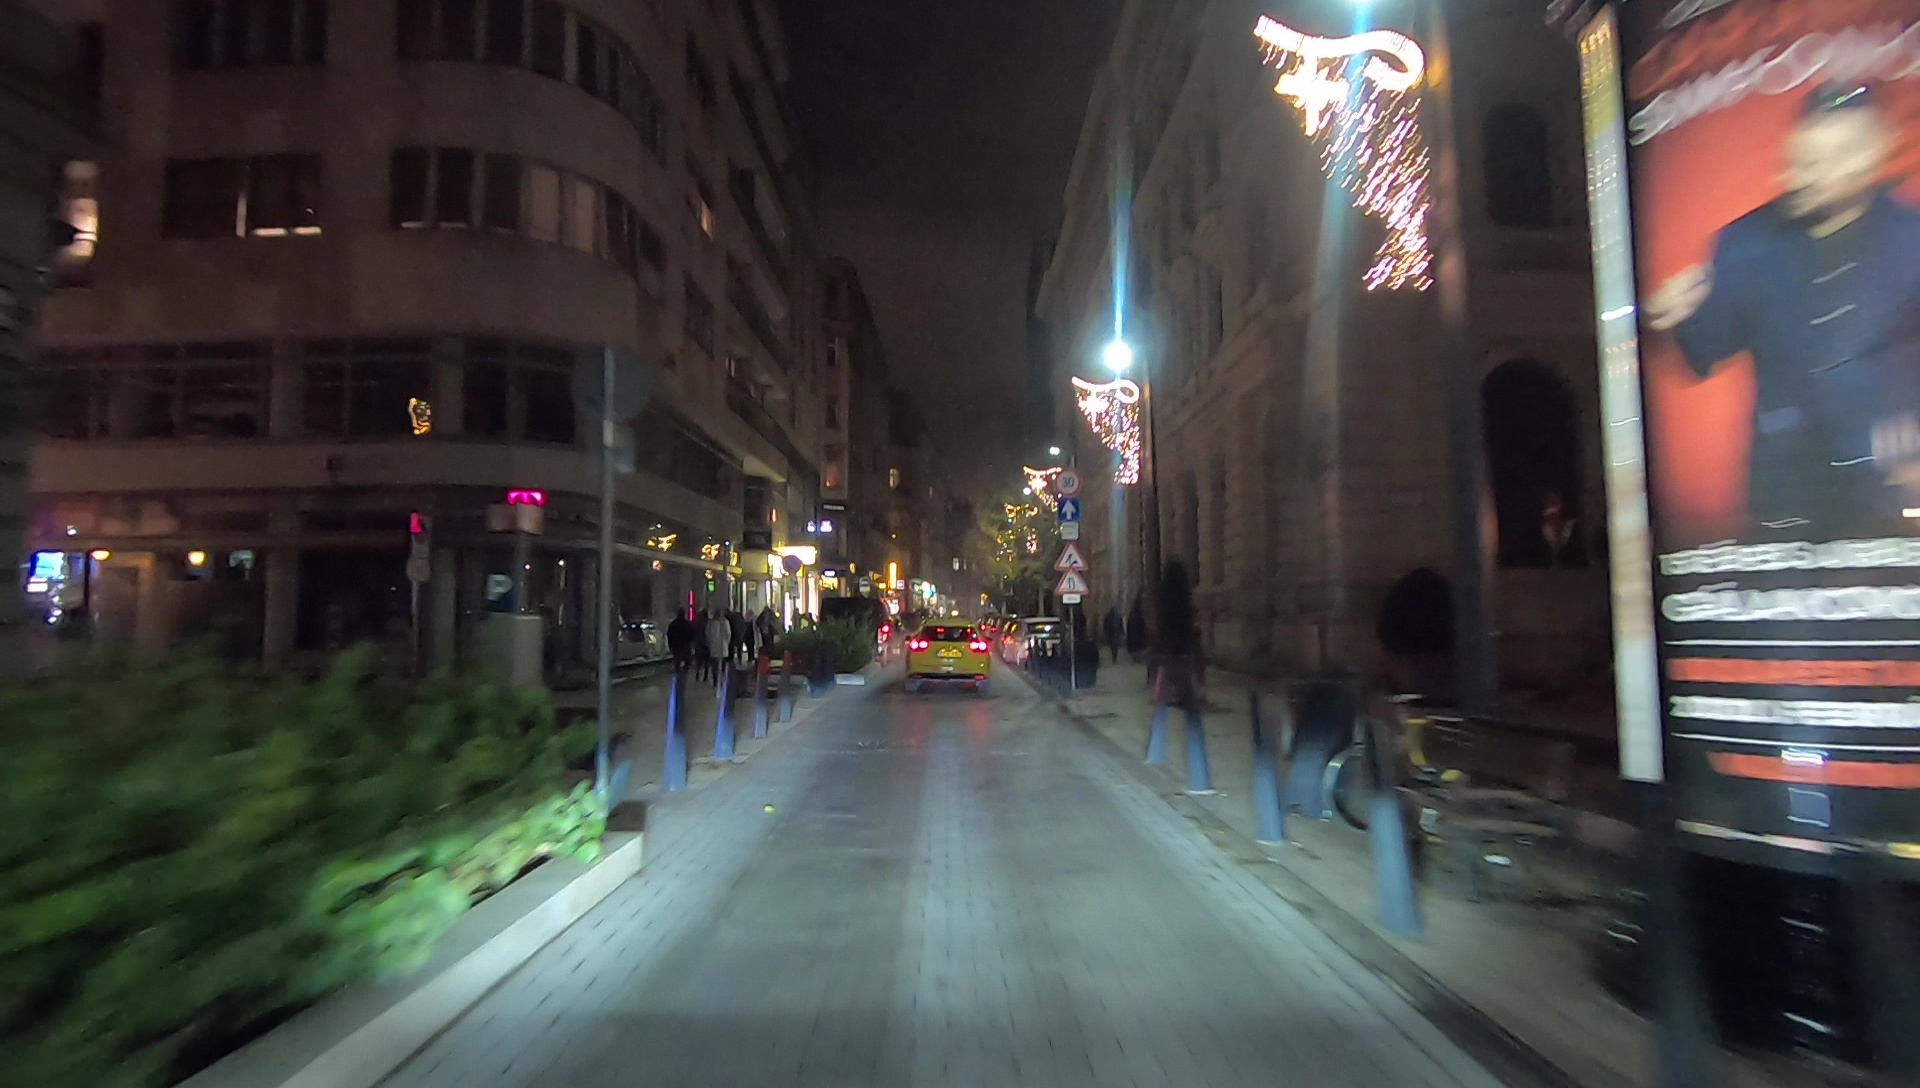person: (1382, 561, 1456, 778), (668, 605, 690, 687), (708, 609, 729, 688), (1103, 605, 1123, 667), (695, 606, 711, 689), (1126, 603, 1144, 664), (759, 606, 777, 669)
